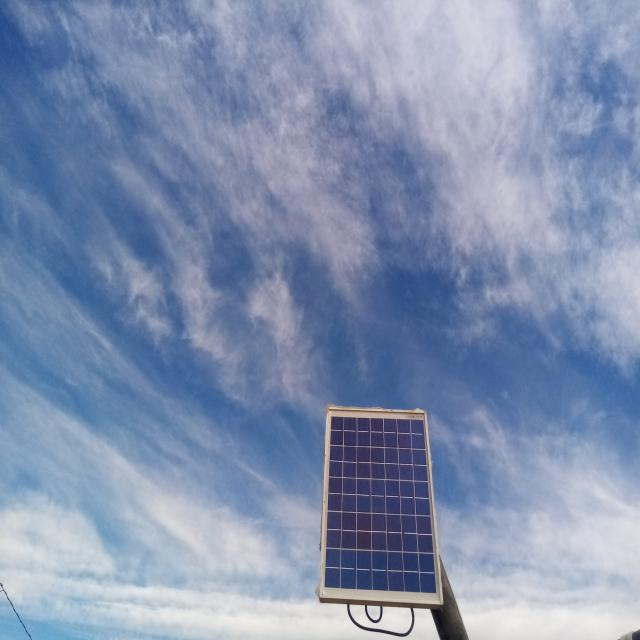no faulty: (321, 407, 442, 601)
